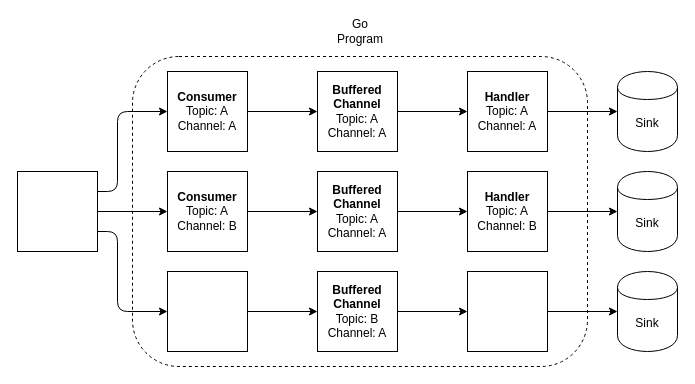
The diagram is 695 pixels wide and 384 high, and some of its shapes have lost their labels. Each missing label, with the centre of its shape:
"Consumer Topic: B Channel: A" goes at pixel 207 311.
"Handler Topic: B Channel: A" goes at pixel 507 311.
"NSQ" goes at pixel 57 211.
